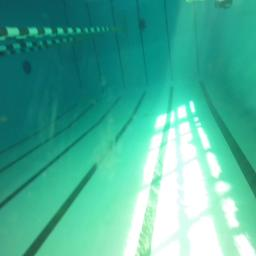Full: (214, 0, 235, 10)
